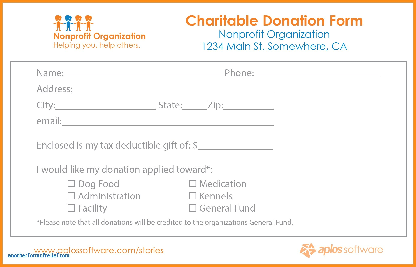checkbox: (66, 203, 77, 213), (66, 179, 76, 189), (188, 179, 198, 189), (187, 203, 197, 213), (187, 191, 198, 200), (67, 191, 76, 200)
textline: (61, 114, 275, 128), (73, 83, 276, 97), (63, 67, 222, 80), (254, 67, 381, 79), (55, 99, 157, 111), (197, 139, 274, 152), (222, 101, 275, 111), (181, 101, 209, 112)
